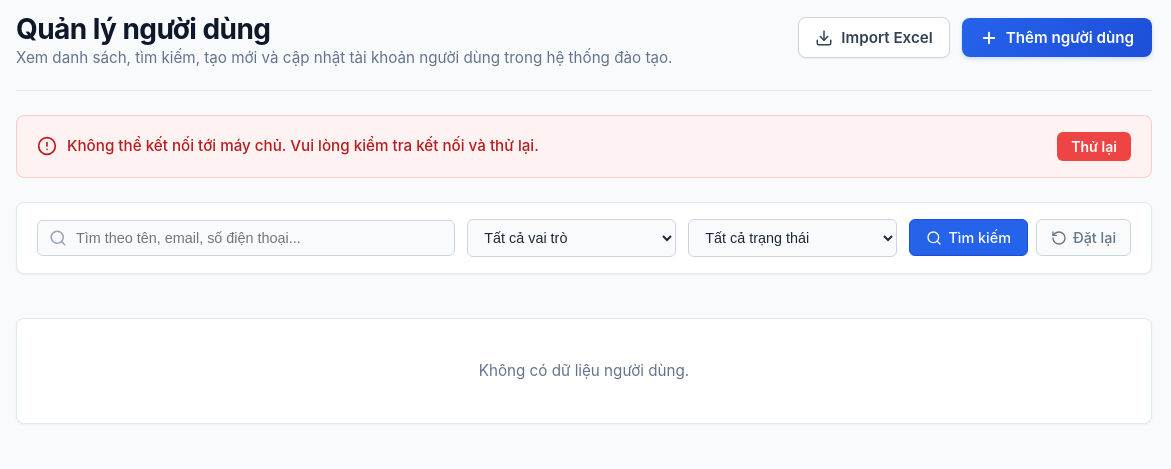
Test case: SCRUM-95: Test Tổng Thể Giao Diện Quản Trị Người Dùng (Overall Test Matrix) › F. Error & Session Matrix › 12. Hiển thị banner lỗi khi API gặp sự cố và cho phép phục hồi bằng nút Thử lại
The image size is (1171, 469).
Expected: the message "Không thể kết nối tới máy chủ. Vui lòng kiểm tra kết nối và thử lại. Thử lại" is shown, left=16, top=115, right=1152, bottom=178
Expected: the text "Không thể kết nối tới máy chủ. Vui lòng kiểm tra kết nối và thử lại." is shown, left=67, top=134, right=539, bottom=158
Click the button with test id "btn-retry-users" at (1094, 146), box left=1057, top=132, right=1131, bottom=161
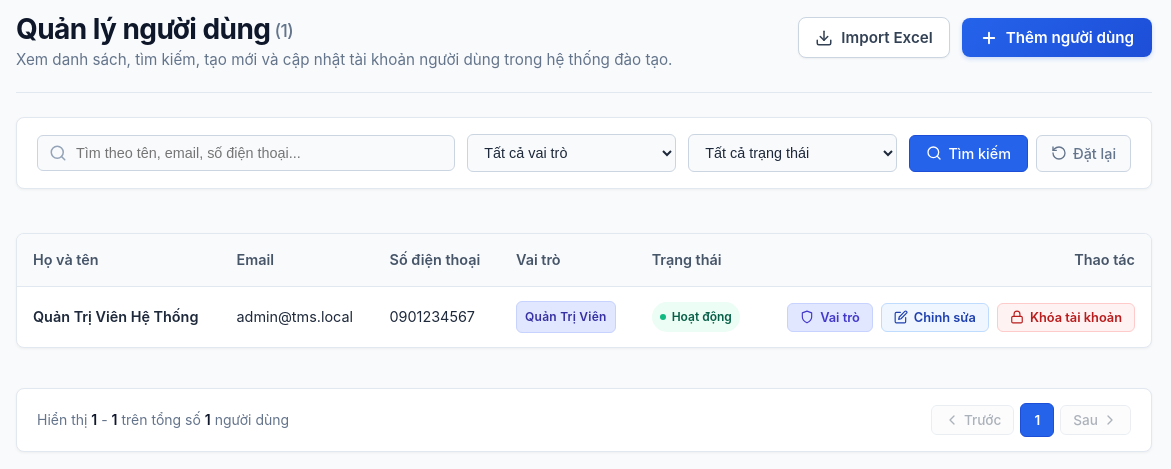
Result: the message with test id "user-error-state" is gone
Result: the text "Quản Trị Viên Hệ Thống" is shown at left=17, top=287, right=220, bottom=347
